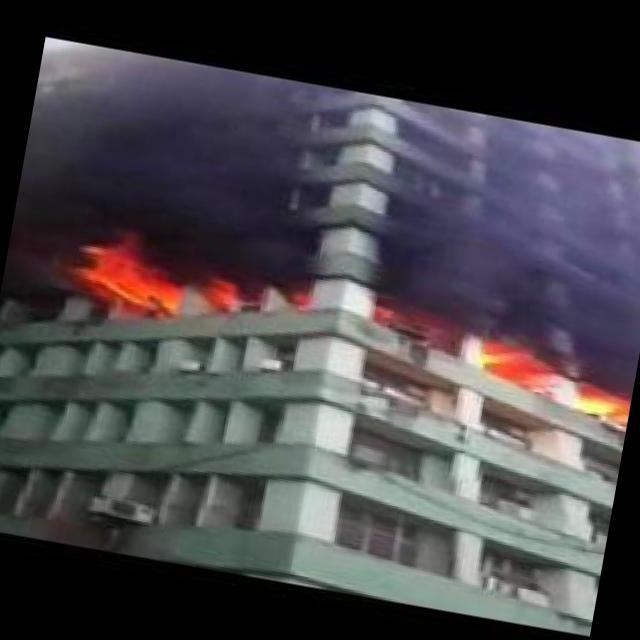fire: (56, 218, 316, 336), (452, 329, 638, 431)
smoke: (377, 155, 640, 382)
